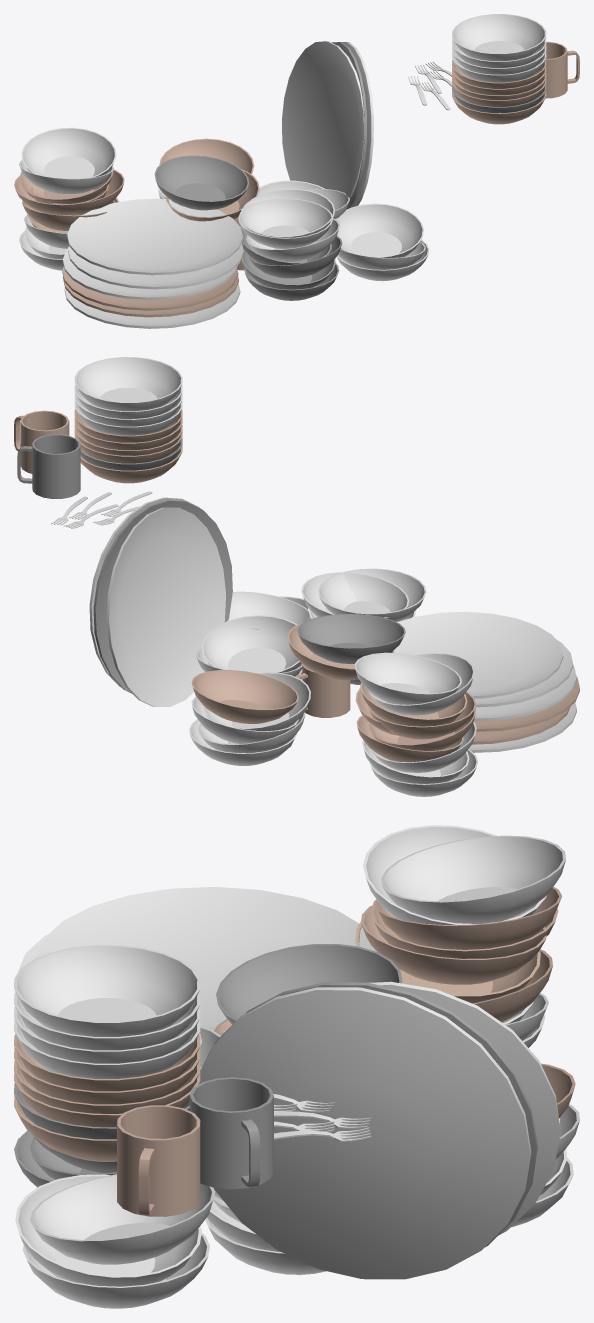
File: dishes2.gltf
3 renders of one model, top to bottom at view 1: azimuth 30°, elevation 25°; view 2: azimuth 150°, elevation 25°; view 3: azimuth 270°, elevation 25°, orthographic. The views are drawn at different scales.
Visible parts, largest first — view 1: dishes; view 2: dishes; view 3: dishes.
Part boxes in pixels (bbox=[...]): dishes: bbox=[14, 14, 579, 328]; dishes: bbox=[14, 357, 579, 796]; dishes: bbox=[14, 825, 579, 1308].
Bounding box in the file's own units: 1 × 0.4073 × 0.5053.
